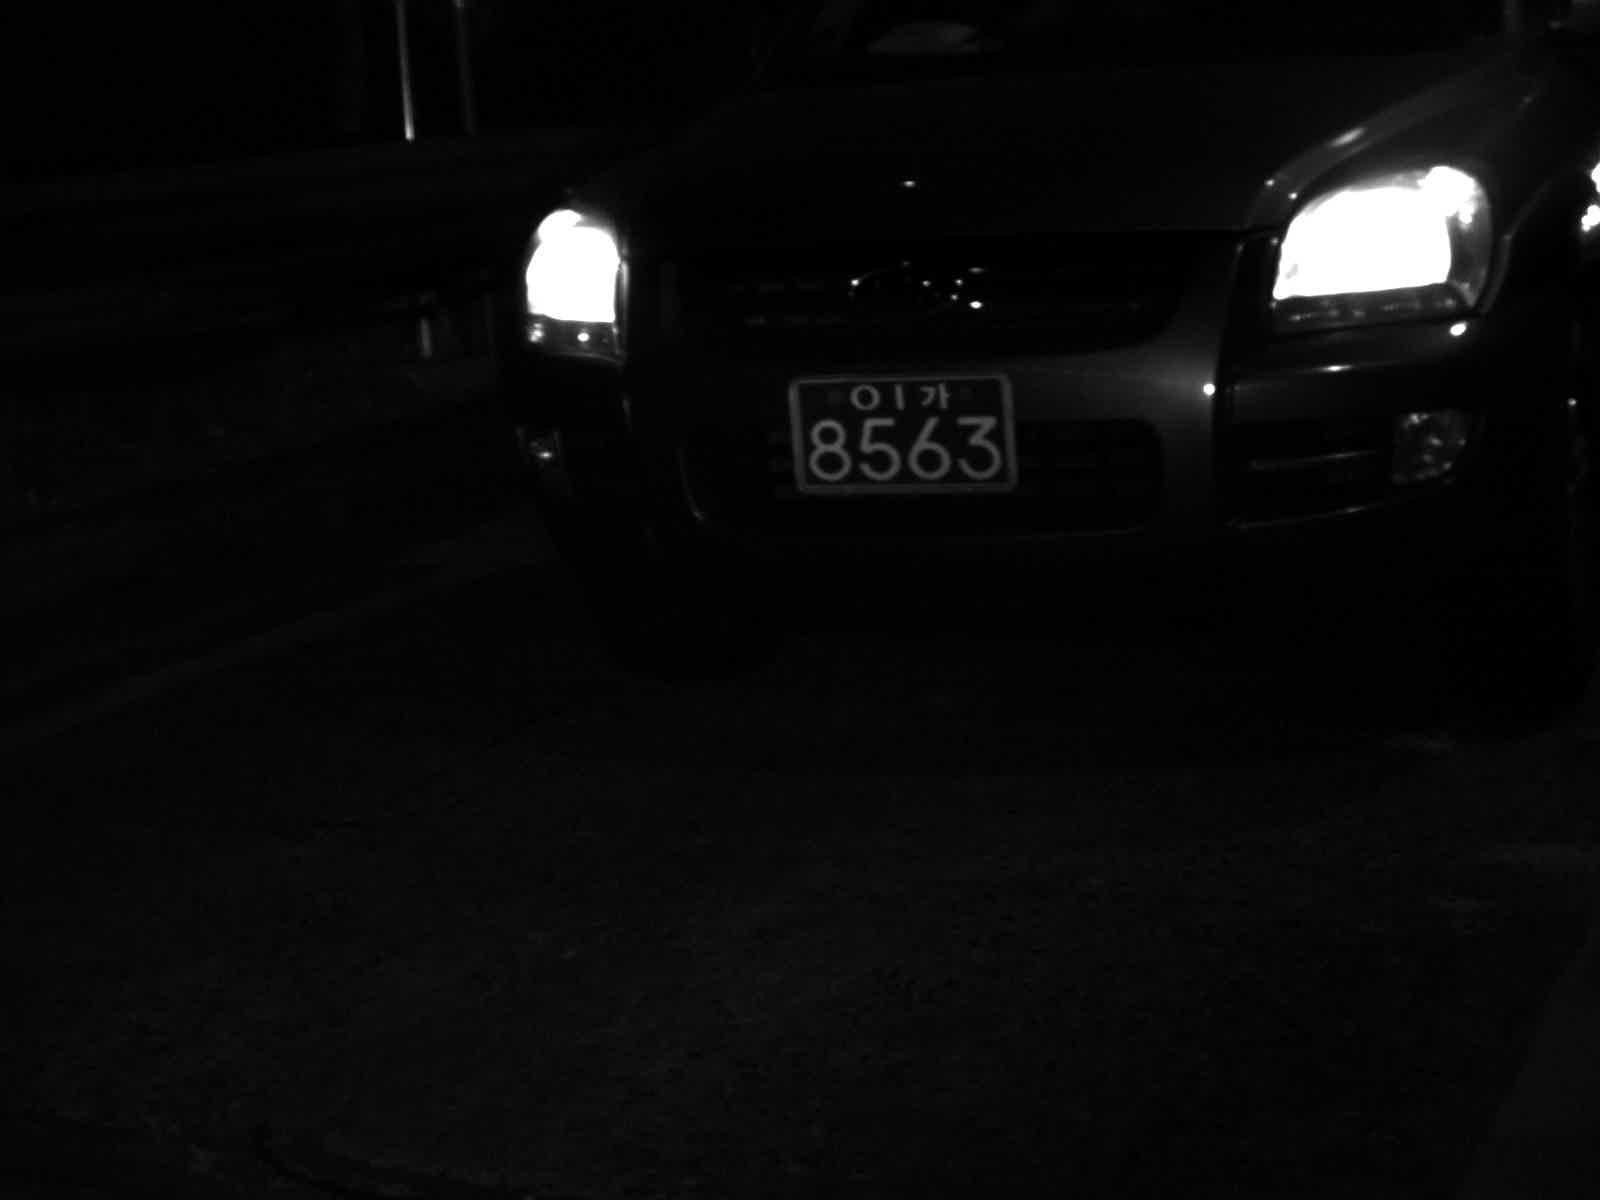P6_01가8563: (783, 364, 1022, 503)
가: (913, 375, 958, 416)
